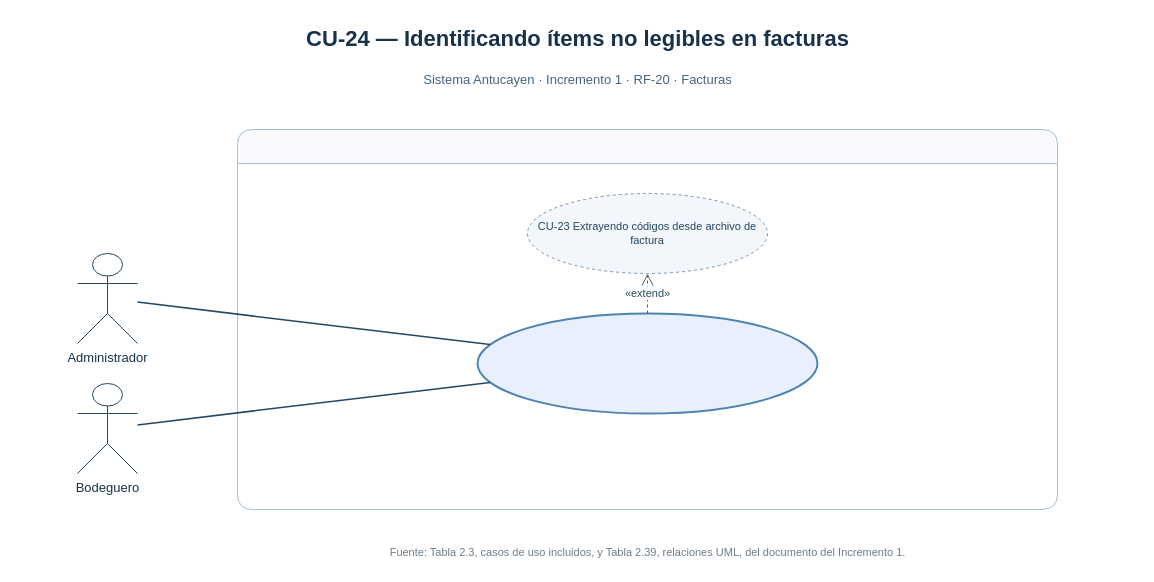
This 1154x582 diagram has some shape labels left out. The shapes that lost their labels are listed below. From the top down, each one's box as (x1, y1, x2, y2) in pixels, then its label:
(236, 128, 1058, 510): Sistema de Gestión de Inventario y Facturas — Antucayen
(476, 312, 818, 414): CU-24 Identificando ítems no legibles en facturas
